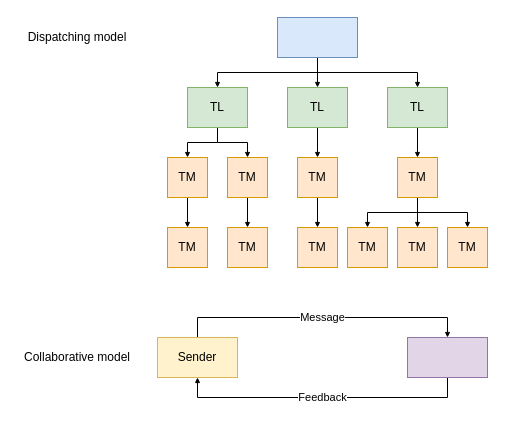
Image size: 505x421. Some labels were removed from this diagram. The shapes that lost their labels are listed below. From the top down, each one's centre as x and y in pixels, then its label:
At point (317, 37): "PM".
At point (447, 357): "Receiver".
